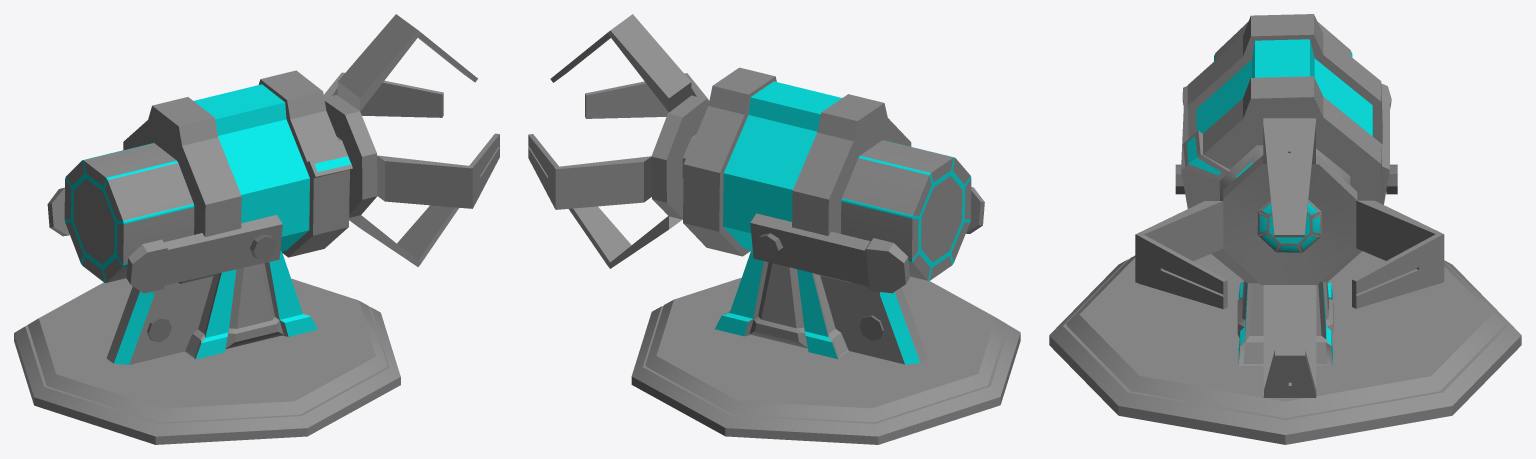
Rendered from black_hole_gun_final.fbx.
3 views of the same model, side by side, from view 1: azimuth 30°, elevation 25°; view 2: azimuth 150°, elevation 25°; view 3: azimuth 270°, elevation 25° (orthographic). The views are drawn at different scales.
Parts seen in each view (by area): view 1: black_hole_generator:pCylinder9, black_hole_generator:pCube23, black_hole_generator:pCube14, black_hole_generator:pCylinder4, black_hole_generator:pCylinder8; view 2: black_hole_generator:pCylinder9, black_hole_generator:pCube23, black_hole_generator:pCube14, black_hole_generator:pCylinder5; view 3: black_hole_generator:pCylinder9, black_hole_generator:pCube23, black_hole_generator:pCube14.
Boxes of the visible parts, bbox=[...] form: black_hole_generator:pCylinder9: bbox=[14, 70, 400, 444]; black_hole_generator:pCube23: bbox=[323, 14, 499, 266]; black_hole_generator:pCube14: bbox=[47, 187, 69, 236]; black_hole_generator:pCylinder4: bbox=[249, 234, 276, 260]; black_hole_generator:pCylinder8: bbox=[147, 317, 171, 342]; black_hole_generator:pCylinder9: bbox=[631, 67, 1020, 444]; black_hole_generator:pCube23: bbox=[528, 14, 709, 268]; black_hole_generator:pCube14: bbox=[750, 213, 909, 293]; black_hole_generator:pCylinder5: bbox=[755, 233, 783, 260]; black_hole_generator:pCylinder9: bbox=[1049, 14, 1521, 444]; black_hole_generator:pCube23: bbox=[1135, 118, 1444, 397]; black_hole_generator:pCube14: bbox=[1381, 83, 1391, 204].
Bounding box in the file's own units: 413 × 261 × 326.
